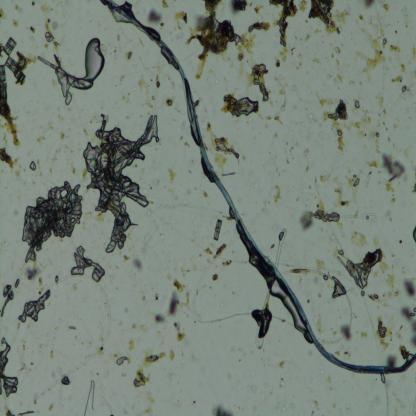Air bubble: (83, 36, 105, 81), (51, 73, 73, 106), (69, 75, 92, 91), (330, 283, 344, 301), (116, 356, 128, 366), (354, 99, 360, 109), (338, 249, 344, 256), (323, 274, 328, 282), (383, 38, 387, 46), (402, 85, 406, 92)
Background material: (84, 114, 162, 253), (22, 180, 88, 263), (186, 1, 245, 79), (338, 244, 384, 292), (204, 121, 239, 173), (319, 95, 349, 152), (274, 0, 298, 70), (308, 1, 350, 39), (132, 349, 168, 390), (296, 200, 342, 232), (17, 287, 52, 324), (0, 334, 20, 398), (165, 277, 193, 318), (220, 90, 260, 118), (381, 149, 405, 189), (361, 37, 384, 78), (248, 62, 270, 104), (0, 104, 20, 148), (0, 277, 20, 318), (400, 301, 416, 349), (41, 16, 60, 53), (237, 30, 257, 64), (350, 111, 371, 139), (346, 172, 363, 206), (376, 317, 394, 349), (333, 174, 349, 208), (274, 78, 288, 115), (38, 54, 65, 73), (367, 289, 393, 308), (327, 59, 344, 86), (83, 378, 95, 416), (145, 6, 165, 28), (351, 226, 369, 247), (247, 20, 272, 34), (230, 0, 251, 16), (173, 318, 186, 343), (210, 402, 233, 416), (22, 265, 43, 280), (165, 164, 179, 186), (339, 322, 354, 342), (143, 390, 155, 414), (386, 272, 398, 296), (174, 10, 188, 30), (403, 276, 416, 297), (0, 148, 13, 169), (398, 344, 413, 362), (302, 146, 312, 171), (384, 184, 396, 204), (3, 408, 34, 415), (333, 348, 351, 360), (153, 311, 168, 325), (143, 91, 154, 109), (389, 41, 401, 57), (132, 256, 144, 272), (272, 184, 282, 203), (384, 354, 398, 367), (138, 76, 150, 90), (389, 73, 404, 84), (368, 155, 379, 170), (154, 74, 162, 94), (95, 210, 107, 223), (319, 172, 332, 184), (60, 376, 71, 390), (164, 92, 174, 107), (130, 323, 146, 332), (128, 338, 135, 358), (26, 55, 37, 67), (298, 1, 307, 15), (375, 130, 380, 154), (0, 7, 8, 21), (168, 349, 176, 363), (359, 330, 369, 341), (274, 114, 284, 125), (380, 261, 389, 273), (398, 62, 407, 74), (14, 4, 24, 14), (332, 45, 340, 57), (65, 324, 77, 332), (411, 226, 416, 244), (203, 247, 213, 256), (122, 94, 132, 103), (69, 164, 77, 175), (125, 50, 133, 61), (221, 258, 232, 266), (212, 273, 220, 284), (37, 136, 46, 145), (122, 253, 130, 263), (58, 130, 66, 140), (253, 5, 263, 13), (12, 18, 20, 28), (162, 1, 170, 10), (411, 47, 416, 61), (28, 25, 36, 33), (82, 168, 89, 177), (380, 374, 386, 384), (31, 1, 36, 6)
Cotton: (107, 0, 416, 375)
Diatom: (5, 56, 26, 81), (3, 37, 16, 56), (214, 219, 223, 241), (0, 82, 8, 104), (0, 63, 6, 82)
Glass filter fibre: (358, 7, 390, 178), (46, 272, 113, 341), (36, 338, 106, 398), (192, 235, 238, 321), (247, 154, 276, 230), (254, 289, 272, 349), (281, 269, 332, 280), (274, 227, 286, 268), (338, 213, 379, 223), (274, 359, 302, 372), (383, 381, 390, 415), (14, 176, 27, 186), (28, 160, 38, 172)
